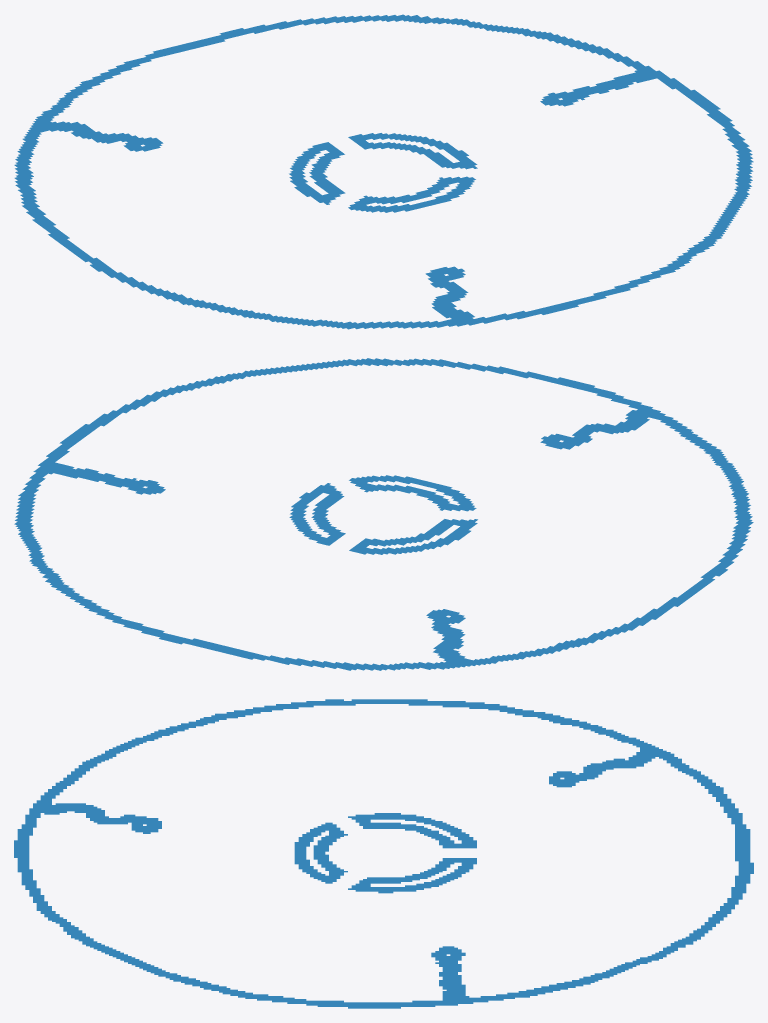
The model's file is Inv-2-PlaceForWaterObjects.fbx.
3 views of the same model, one above another, from view 1: azimuth 30°, elevation 25°; view 2: azimuth 150°, elevation 25°; view 3: azimuth 270°, elevation 25° (orthographic).
Visible parts, largest first — view 1: Inv-2-PlaceForWaterObjects; view 2: Inv-2-PlaceForWaterObjects; view 3: Inv-2-PlaceForWaterObjects.
Boxes of the visible parts, box(x1,y1,x2,y2) form: Inv-2-PlaceForWaterObjects: box(14, 14, 753, 329); Inv-2-PlaceForWaterObjects: box(14, 358, 753, 670); Inv-2-PlaceForWaterObjects: box(14, 699, 753, 1008).
Size of the model in its own units: 193 by 0 by 195.
